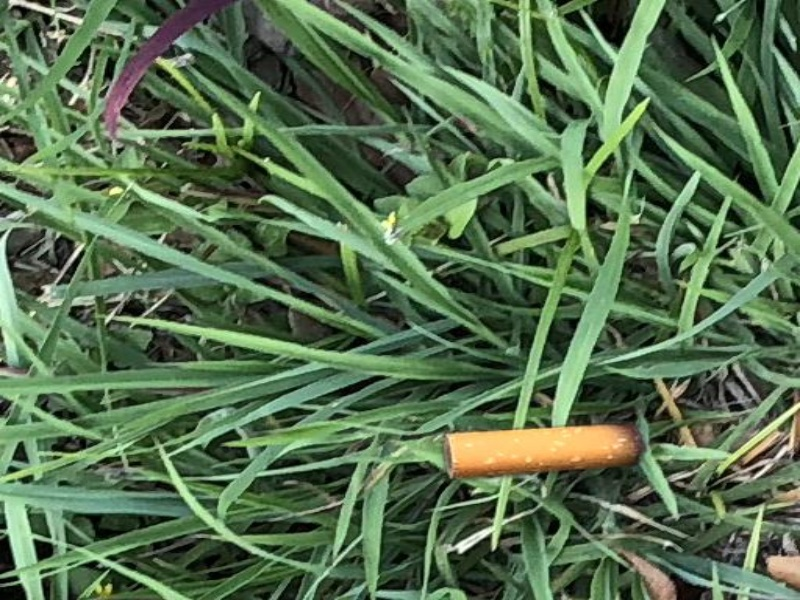cig: (430, 412, 650, 477)
